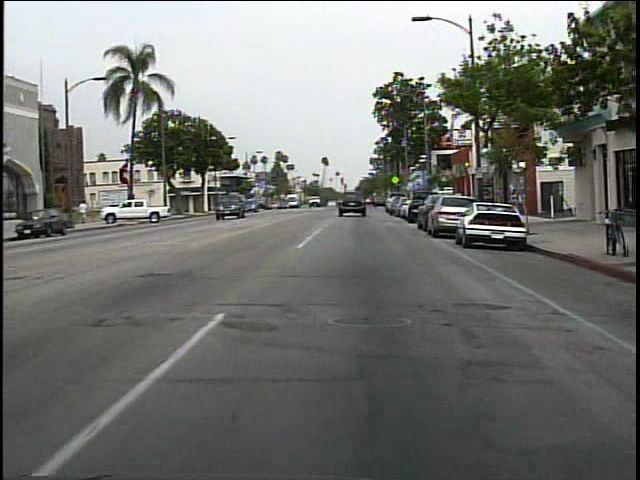person: (80, 198, 91, 227), (372, 191, 381, 213)
